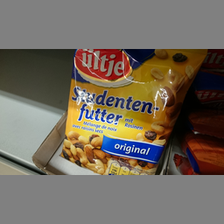nuts: (61, 49, 206, 175)
